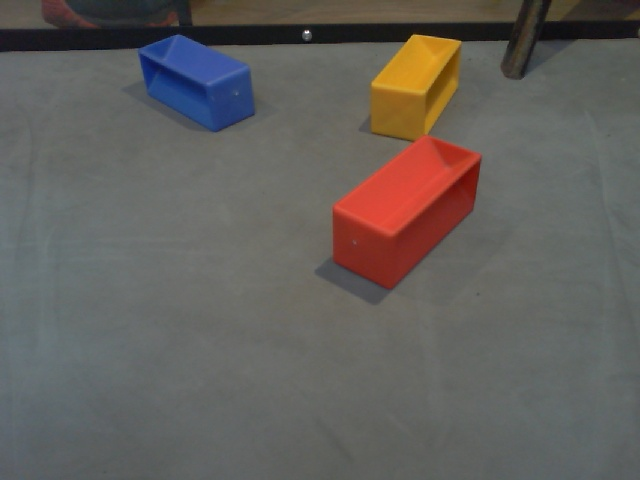BlueSample: (136, 31, 258, 134)
RedSample: (329, 131, 483, 292)
YellowSample: (366, 31, 464, 143)
